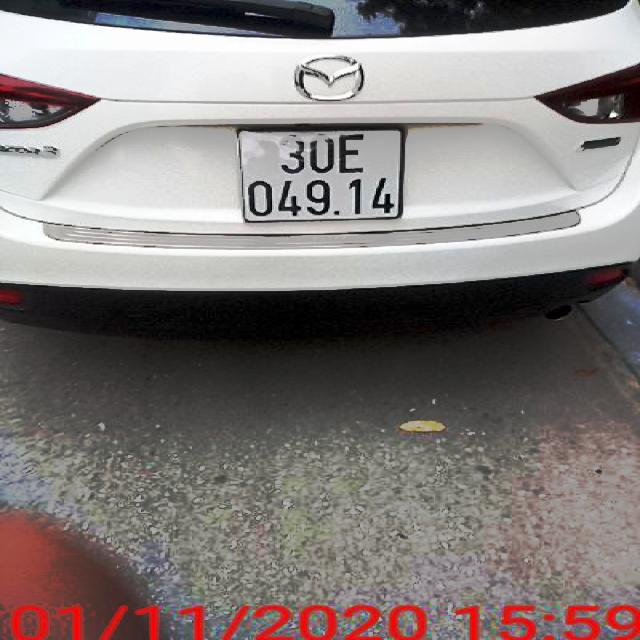license_plate: (244, 128, 411, 221)
